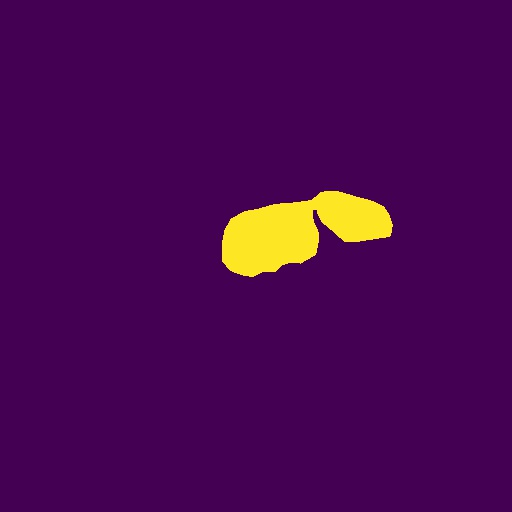Gliomia_tumour: (222, 191, 393, 277)
